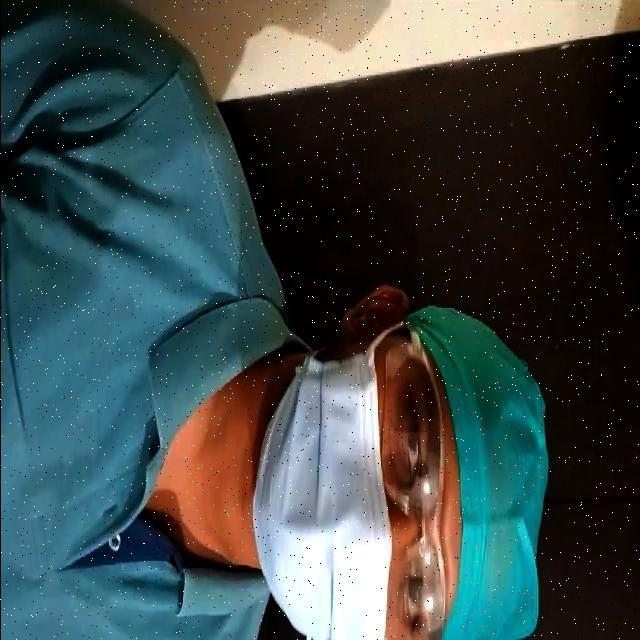gloves: (412, 304, 554, 634)
mask: (240, 356, 396, 637)
